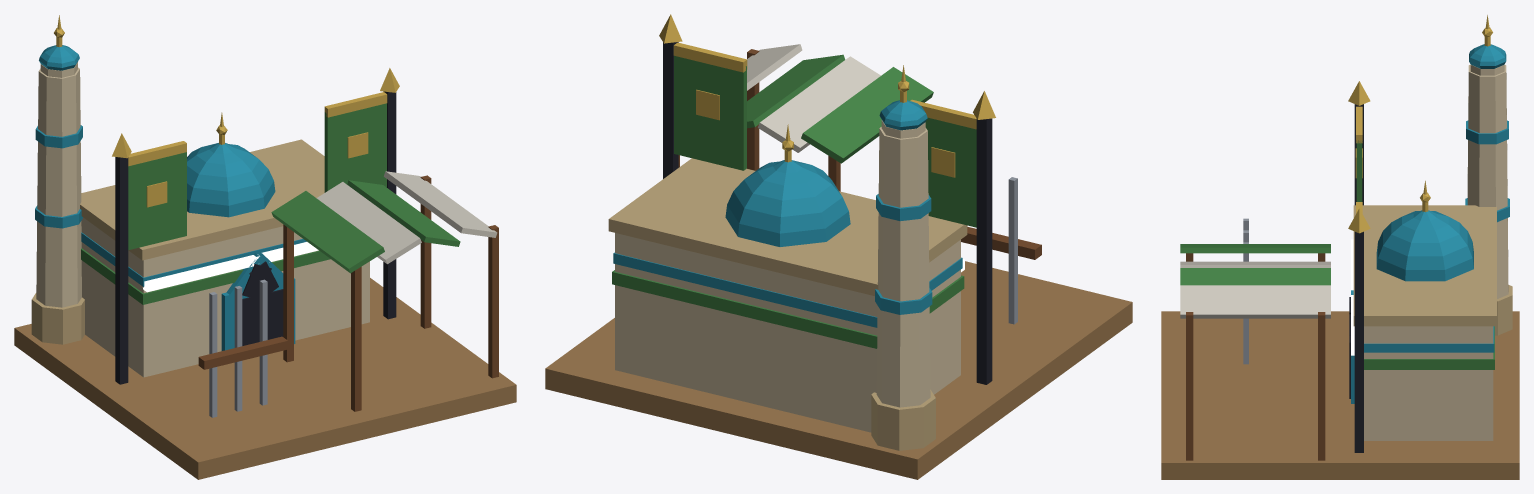
The model's file is camp_ranger_t3.glb.
3 views of the same model, side by side, from view 1: azimuth 30°, elevation 25°; view 2: azimuth 150°, elevation 25°; view 3: azimuth 270°, elevation 25° (orthographic). The views are drawn at different scales.
Visible parts, largest first — view 1: body, glow; view 2: body; view 3: body.
Part boxes in pixels (<box>): body: <box>14,15,516,479</box>; glow: <box>143,242,318,292</box>; body: <box>545,14,1132,479</box>; body: <box>1161,15,1519,479</box>.
Size of the model in its own units: 1.9 by 1.92 by 1.9.
